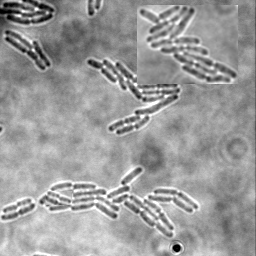Dividing: (1, 204, 37, 222), (3, 199, 33, 215), (46, 191, 72, 205)
Microcolony: (40, 167, 199, 238), (137, 5, 238, 84), (87, 59, 181, 136), (5, 30, 52, 72), (1, 1, 56, 26)
